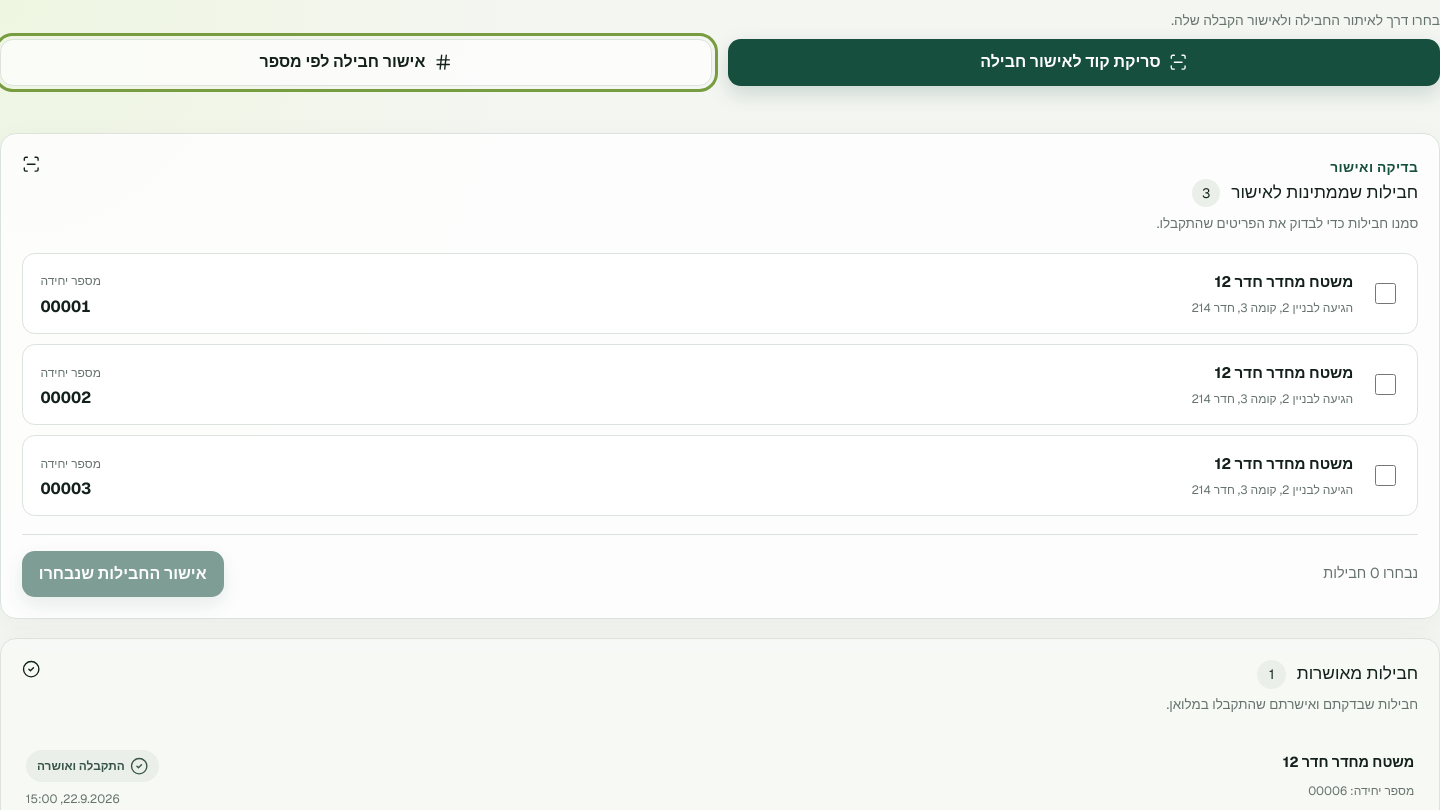
Test: package pickup › closes on Escape and discards the cancelled lookup
Expected: the checkbox named "בחירת חבילה 00001" is shown, [1375,283,1396,304]
Click the button "אישור חבילה לפי מספר" at (356, 62), box [0,39,712,86]
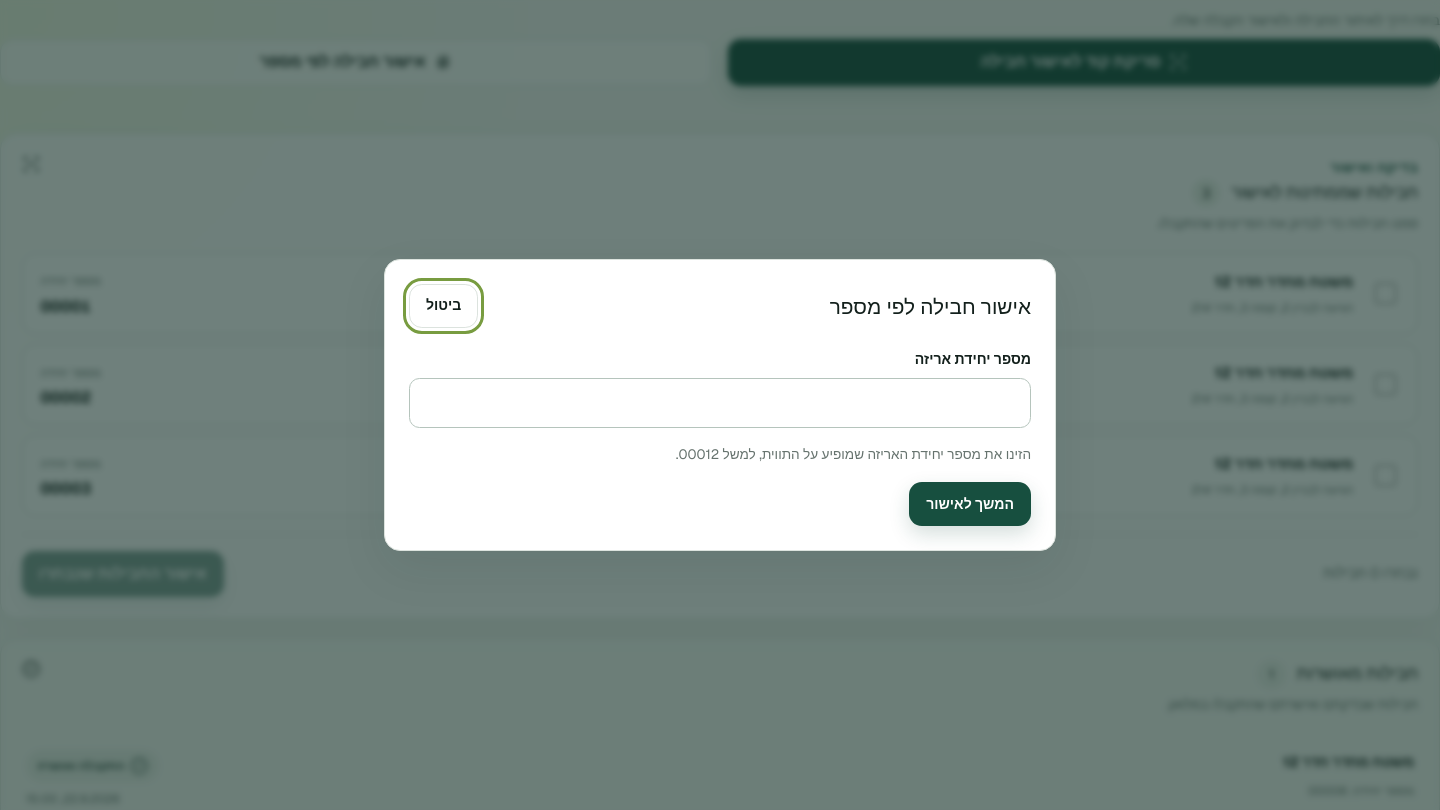
Type "1" into the field labelled "מספר יחידת אריזה" at (720, 404), box [409,378,1031,428]
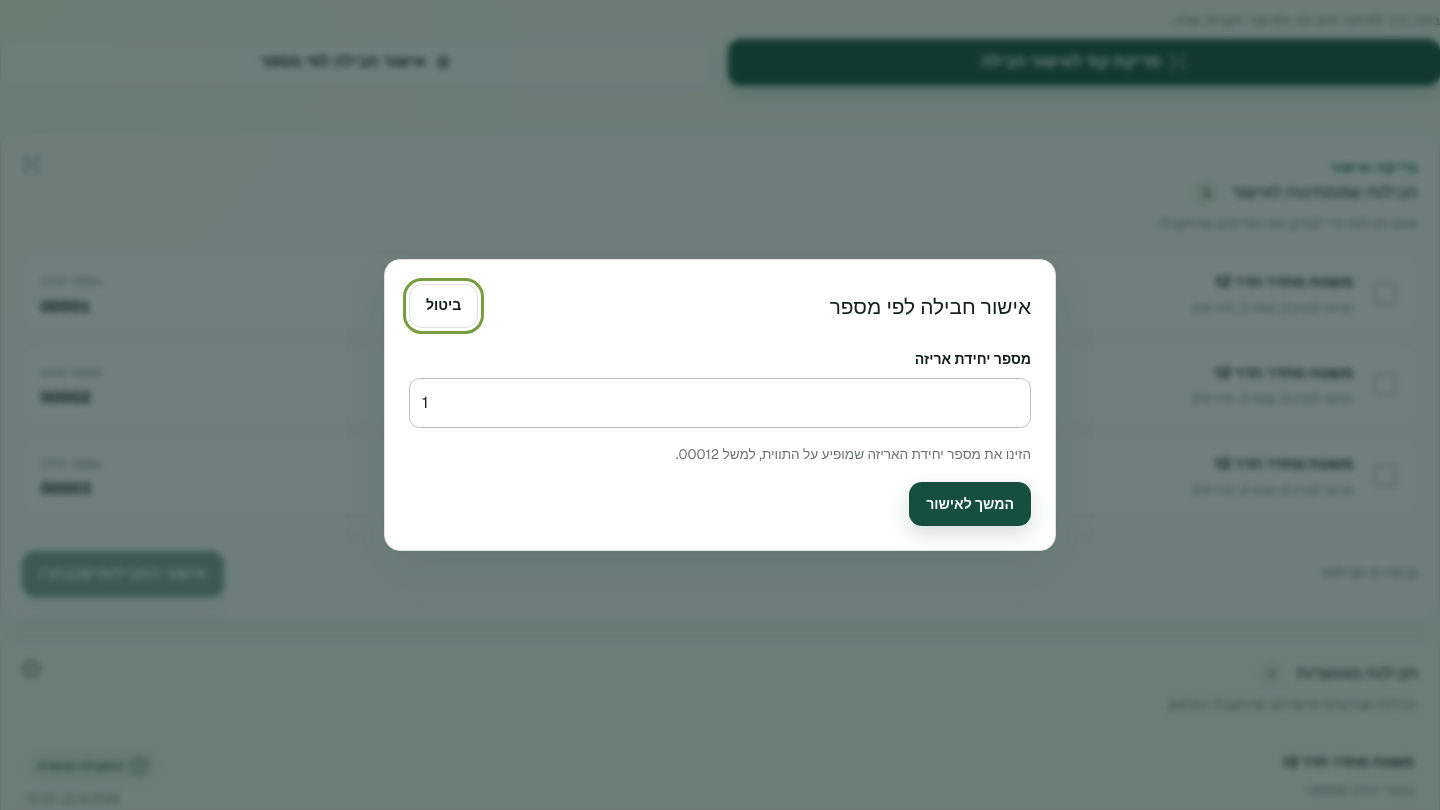
Submit the form named "המשך לאישור", box [409,349,1031,526]
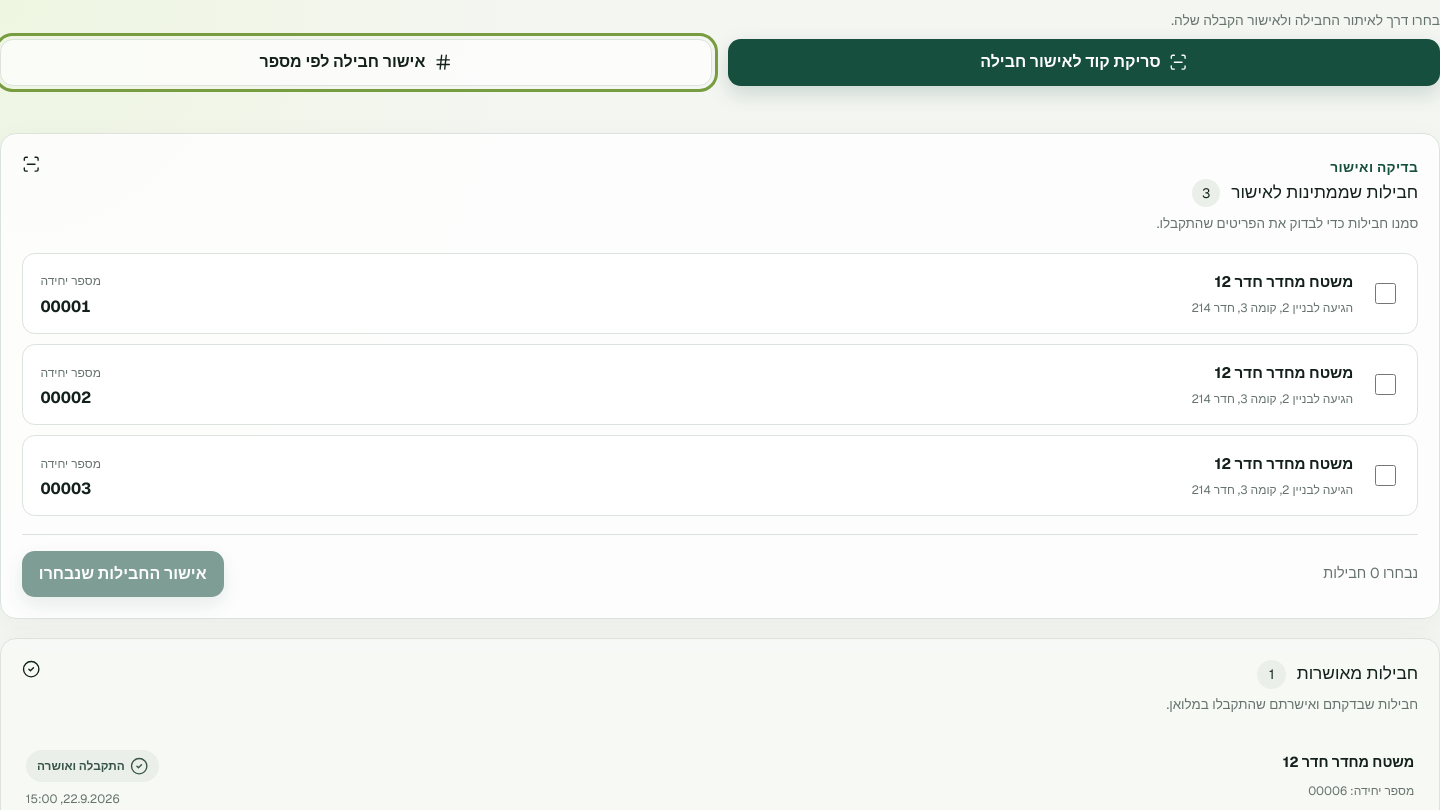
Now the dialog is gone
